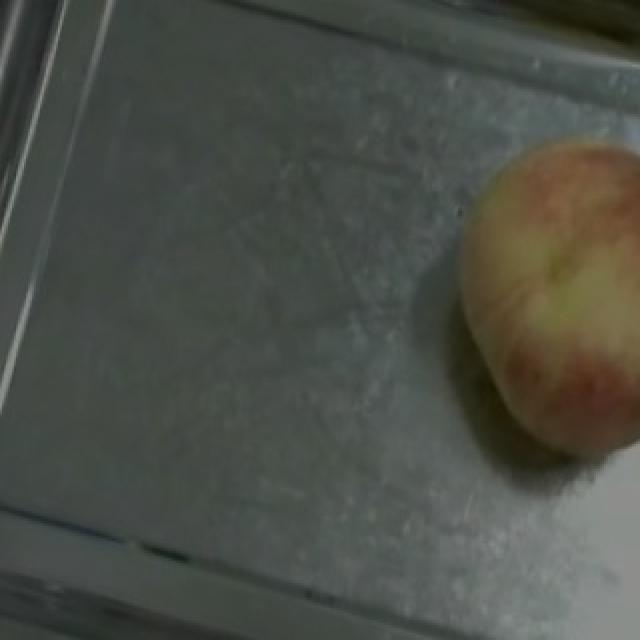Fruit: (410, 92, 640, 451)
